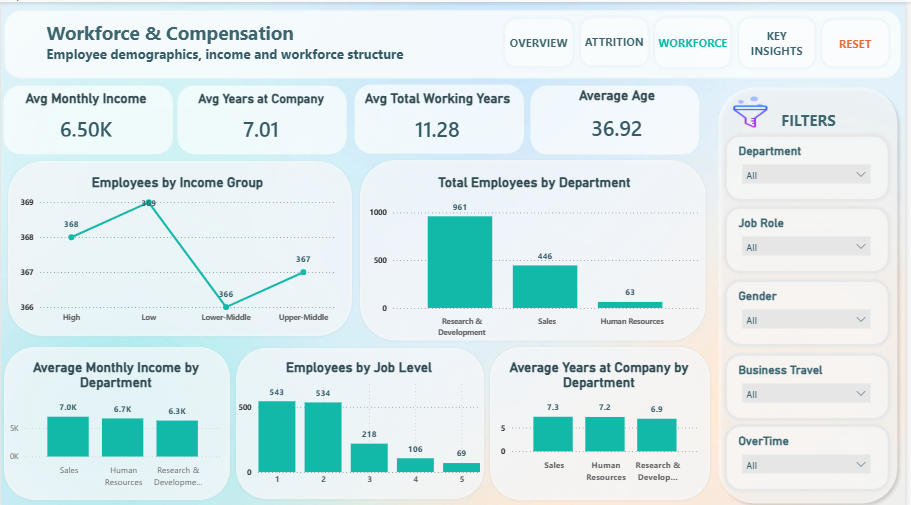

The dashboard page shown, as its layout file describes it:
{"tool":"powerbi","page":{"name":"Workforce & Compensation","canvas":[1280,720],"ordinal":2},"visuals":[{"type":"group","id":"g1","title":"Group 4","box":[0,7.1,1280,105.8],"z":0},{"type":"shape","box":[497.5,113.4,247,104.9],"z":0,"group":"g4"},{"type":"shape","box":[0,114.8,247.2,104.4],"z":0,"group":"g6"},{"type":"shape","box":[246.6,114.8,246.6,104.4],"z":0,"group":"g8"},{"type":"shape","box":[746.9,114.8,246.1,105],"z":0,"group":"g3"},{"type":"shape","box":[504.6,219.7,498.4,264.6],"z":0,"group":"g9"},{"type":"shape","box":[5.7,221.1,496.1,256.5],"z":0,"group":"g7"},{"type":"shape","box":[0,484.7,328.8,225.4],"z":0,"group":"g2"},{"type":"shape","box":[688.8,484.7,320.3,225.4],"z":0,"group":"g16"},{"type":"shape","box":[328.8,486.1,360,222.5],"z":0,"group":"g5"},{"type":"shape","box":[0,7.1,1280,105.8],"z":500,"group":"g1"},{"type":"shape","box":[708.7,18.6,107.3,78.7],"z":1000,"group":"g14"},{"type":"textbox","box":[60.1,20,536.3,77.2],"z":1000,"group":"g1"},{"type":"cardVisual","title":"Average Age","fields":{"Data":["employee_attrition.Average Age"]},"box":[766.8,120.7,212.6,90.7],"z":1000,"group":"g3"},{"type":"cardVisual","title":"Avg Monthly Income","fields":{"Data":["employee_attrition.Average Monthly Income"]},"box":[1.8,124.5,238.3,83.6],"z":1000,"group":"g6"},{"type":"cardVisual","title":"Avg Total Working Years","fields":{"Data":["employee_attrition.Average Total Working Years"]},"box":[511,125.1,216.9,84.9],"z":1000,"group":"g4"},{"type":"cardVisual","title":"Avg Years at Company","fields":{"Data":["employee_attrition.Average Years at Company"]},"box":[252.5,126,232.9,82.9],"z":1000,"group":"g8"},{"type":"clusteredColumnChart","fields":{"Category":["employee_attrition.Department"],"Y":["employee_attrition.Total Employees"]},"box":[522.2,243.4,469.1,233.9],"z":1000,"group":"g9"},{"type":"group","id":"g2","title":"Group 3","box":[0,484.7,328.8,225.4],"z":1000},{"type":"clusteredColumnChart","title":"Employees by Job Level","fields":{"Y":["employee_attrition.Total Employees"],"Category":["employee_attrition.JobLevel"]},"box":[336.1,505.7,343,184.3],"z":1000,"group":"g5"},{"type":"clusteredColumnChart","fields":{"Category":["employee_attrition.Department"],"Y":["employee_attrition.Average Monthly Income"]},"box":[12.8,506.4,300.5,184.3],"z":1000,"group":"g2"},{"type":"shape","box":[1008.3,111.6,271.7,607.8],"z":2000},{"type":"clusteredColumnChart","title":"Average Years at Company by Department","fields":{"Category":["employee_attrition.Department"],"Y":["employee_attrition.Average Years at Company"]},"box":[700.4,505.4,294.8,181.9],"z":2000,"group":"g16"},{"type":"shape","box":[816,17.2,105.8,78.7],"z":3000,"group":"g14"},{"type":"group","id":"g3","title":"Group 1","box":[746.9,114.8,246.1,105],"z":3000},{"type":"shape","box":[1157.8,19.9,105.8,77.2],"z":4000,"group":"g14"},{"type":"group","id":"g4","title":"Group 1","box":[497.5,113.4,247,104.9],"z":4000},{"type":"shape","box":[921.8,17,118.7,81.5],"z":5000,"group":"g14"},{"type":"group","id":"g5","title":"Group 3","box":[328.8,486.1,360,222.5],"z":5000},{"type":"shape","box":[1021.1,183.1,244.6,104.4],"z":5500,"group":"g10"},{"type":"shape","box":[1021.1,284.6,244.6,104.4],"z":5500,"group":"g11"},{"type":"shape","box":[1021.1,389,244.6,104.4],"z":5500,"group":"g12"},{"type":"shape","box":[1021.1,493.4,244.6,104.4],"z":5500,"group":"g13"},{"type":"shape","box":[1021.1,593.5,244.6,104.4],"z":5500,"group":"g15"},{"type":"shape","box":[1040.5,17,118.7,81.5],"z":6000,"group":"g14"},{"type":"group","id":"g6","title":"Group 1","box":[0,114.8,247,104.9],"z":6000},{"type":"group","id":"g7","title":"Group 3","box":[5.7,221.1,496.1,256.5],"z":7000},{"type":"group","id":"g8","title":"Group 1","box":[246.6,114.8,246.6,104.9],"z":8000},{"type":"slicer","title":"Department","fields":{"Values":["employee_attrition.Department"]},"box":[1040.7,200.8,201.7,66.6],"z":8000,"group":"g10"},{"type":"slicer","title":"Job Role","fields":{"Values":["employee_attrition.JobRole"]},"box":[1040.7,302.3,201.7,66.6],"z":8000,"group":"g11"},{"type":"slicer","title":"Gender","fields":{"Values":["employee_attrition.Gender"]},"box":[1040.7,406.7,201.7,66.6],"z":8000,"group":"g12"},{"type":"slicer","title":"Business Travel","fields":{"Values":["employee_attrition.BusinessTravel"]},"box":[1040.7,511.1,201.7,66.6],"z":8000,"group":"g13"},{"type":"slicer","title":"OverTime","fields":{"Values":["employee_attrition.OverTime"]},"box":[1040.7,611.2,201.7,66.6],"z":8000,"group":"g15"},{"type":"image","box":[1019.1,129,86.5,53.9],"z":9000},{"type":"textbox","box":[1036.1,147.8,217,42.7],"z":10000},{"type":"group","id":"g9","title":"Group 3","box":[504.6,219.7,498.4,264.6],"z":11000},{"type":"group","id":"g10","title":"Group 7","box":[1021.1,183.1,244.6,104.4],"z":12000},{"type":"group","id":"g11","title":"Group 7","box":[1021.1,284.6,244.6,104.4],"z":13000},{"type":"group","id":"g12","title":"Group 7","box":[1021.1,389,244.6,104.4],"z":14000},{"type":"group","id":"g13","title":"Group 7","box":[1021.1,493.4,244.6,104.4],"z":15000},{"type":"group","id":"g14","title":"Group 2","box":[708.7,17,555.6,82.2],"z":16000},{"type":"group","id":"g15","title":"Group 7","box":[1021.1,593.5,244.6,104.4],"z":17000},{"type":"group","id":"g16","title":"Group 6","box":[688.8,484.7,320.3,225.4],"z":18000},{"type":"lineChart","title":"Employees by Income Group","fields":{"Y":["employee_attrition.Total Employees"],"Category":["employee_attrition.Income Group"]},"box":[26.9,243.8,446.5,216.9],"z":19000}]}

Visuals, with their boxes in screenshot pixels (x1, y1, x2, y2), scaled from the page's 1280x720 canvas onto the 911x505 screenshot:
"Group 4" group: (0,5,910,79)
shape: (354,80,530,153)
shape: (0,81,176,154)
shape: (176,81,351,154)
shape: (532,81,707,154)
shape: (359,154,714,340)
shape: (4,155,357,335)
shape: (0,340,234,498)
shape: (490,340,718,498)
shape: (234,341,490,497)
shape: (0,5,910,79)
shape: (504,13,581,68)
textbox: (43,14,424,68)
"Average Age" cardVisual: (546,85,697,148)
"Avg Monthly Income" cardVisual: (1,87,171,146)
"Avg Total Working Years" cardVisual: (364,88,518,147)
"Avg Years at Company" cardVisual: (180,88,345,147)
clusteredColumnChart - employee_attrition.Department x employee_attrition.Total Employees: (372,171,706,335)
"Group 3" group: (0,340,234,498)
"Employees by Job Level" clusteredColumnChart: (239,355,483,484)
clusteredColumnChart - employee_attrition.Department x employee_attrition.Average Monthly Income: (9,355,223,484)
shape: (718,78,910,504)
"Average Years at Company by Department" clusteredColumnChart: (498,354,708,482)
shape: (581,12,656,67)
"Group 1" group: (532,81,707,154)
shape: (824,14,899,68)
"Group 1" group: (354,80,530,153)
shape: (656,12,741,69)
"Group 3" group: (234,341,490,497)
shape: (727,128,901,202)
shape: (727,200,901,273)
shape: (727,273,901,346)
shape: (727,346,901,419)
shape: (727,416,901,489)
shape: (741,12,825,69)
"Group 1" group: (0,81,176,154)
"Group 3" group: (4,155,357,335)
"Group 1" group: (176,81,351,154)
"Department" slicer: (741,141,884,188)
"Job Role" slicer: (741,212,884,259)
"Gender" slicer: (741,285,884,332)
"Business Travel" slicer: (741,358,884,405)
"OverTime" slicer: (741,429,884,475)
image: (725,90,787,128)
textbox: (737,104,892,134)
"Group 3" group: (359,154,714,340)
"Group 7" group: (727,128,901,202)
"Group 7" group: (727,200,901,273)
"Group 7" group: (727,273,901,346)
"Group 7" group: (727,346,901,419)
"Group 2" group: (504,12,900,70)
"Group 7" group: (727,416,901,489)
"Group 6" group: (490,340,718,498)
"Employees by Income Group" lineChart: (19,171,337,323)
